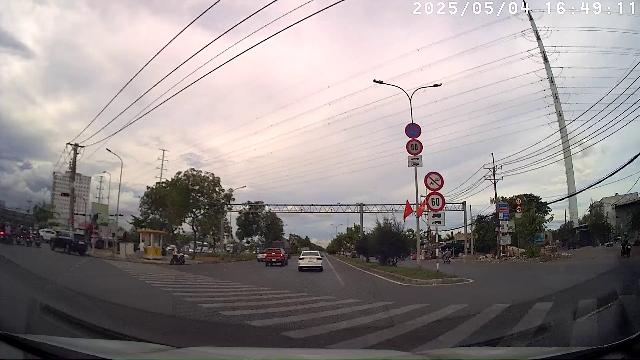127-toc-do-toi-da-60: (425, 192, 445, 212)
127-toc-do-toi-da-80: (406, 139, 422, 155)
130-cam-dung-va-do-xe: (404, 123, 422, 139)
